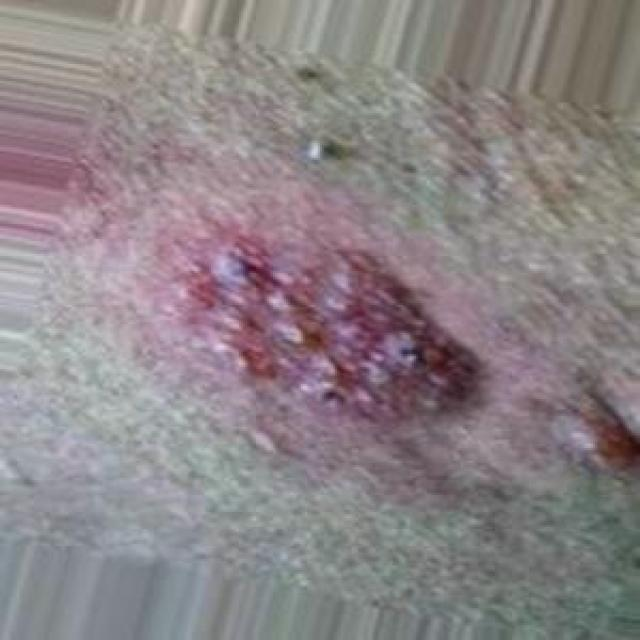Shingles: (197, 233, 474, 421)
